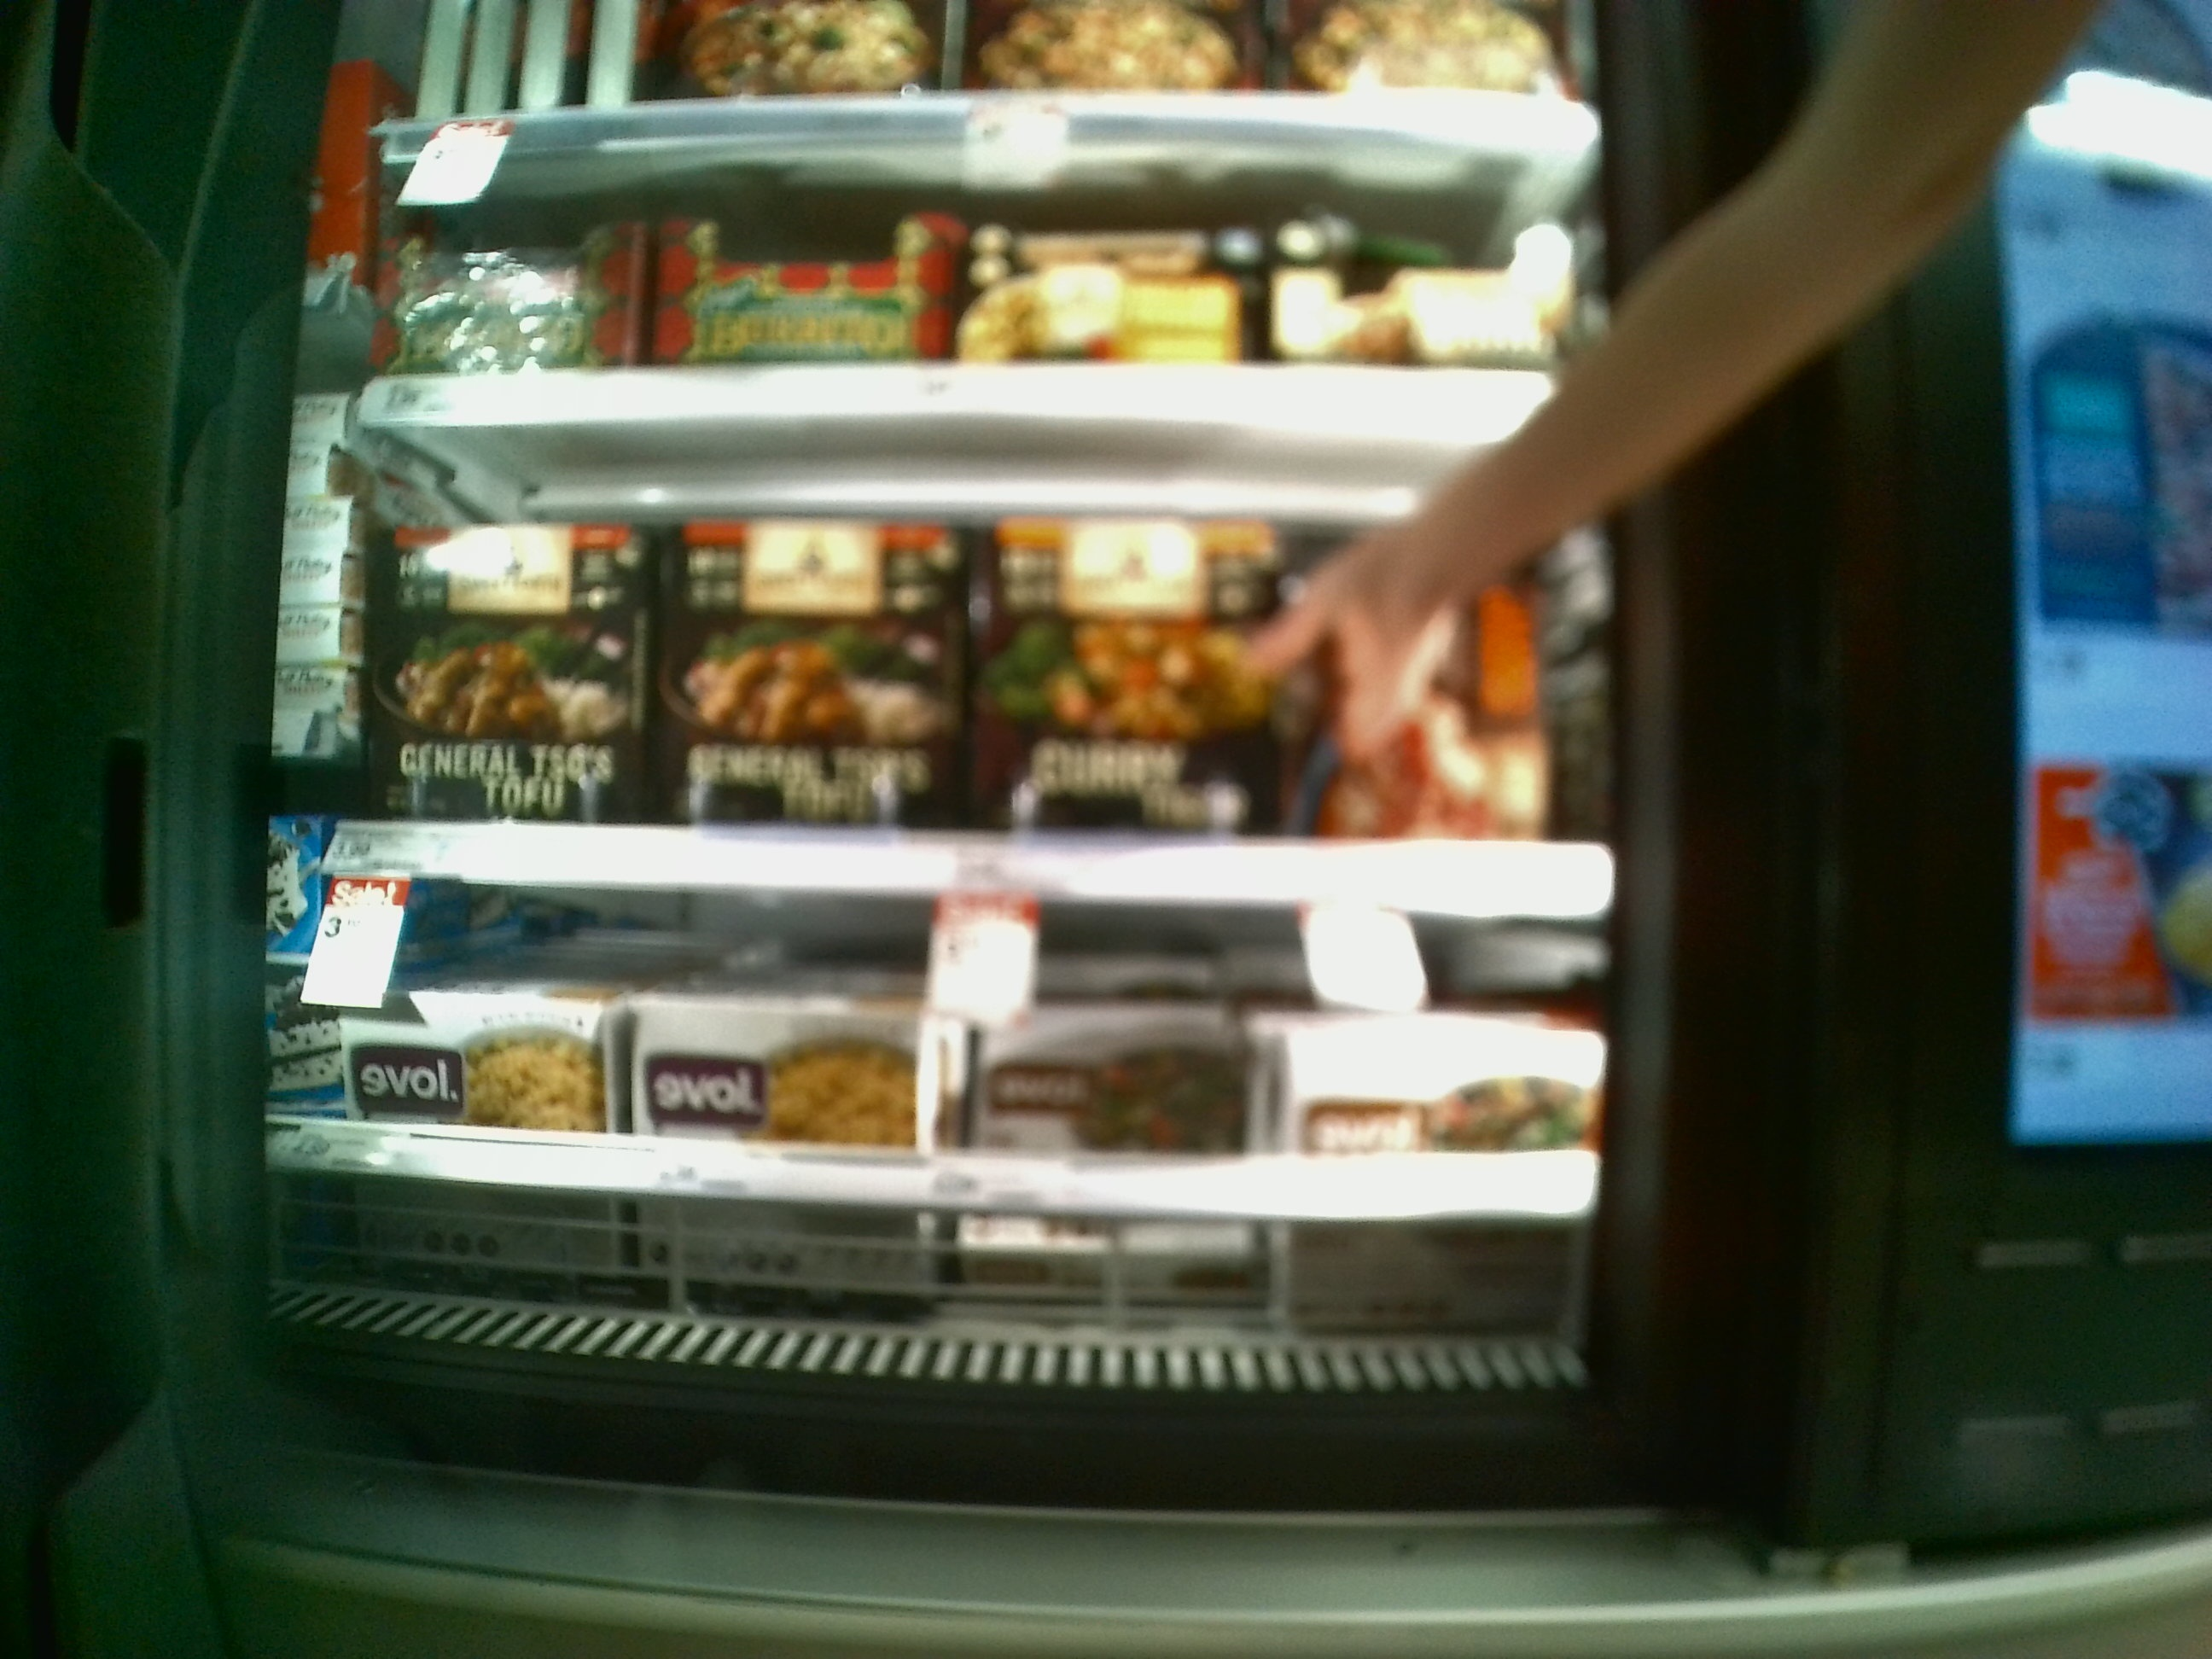frozen-food-shelf: (310, 432, 1606, 915), (261, 918, 1606, 1223), (359, 162, 1559, 441)
